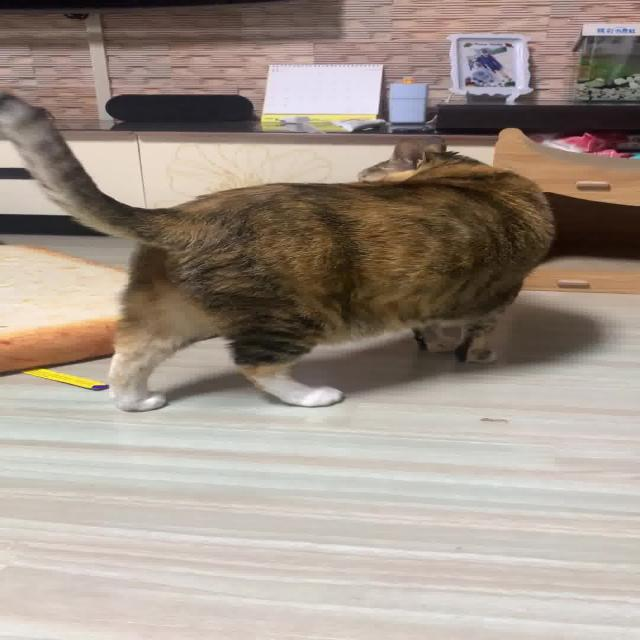cat: (0, 76, 559, 418)
